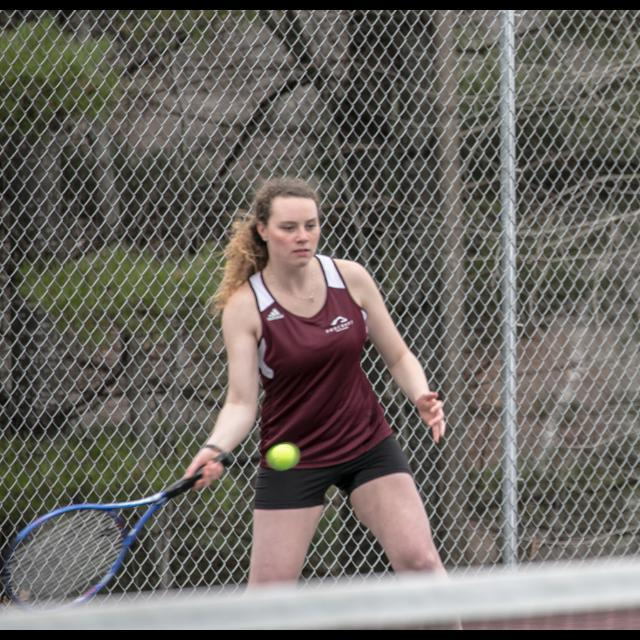tennis-ball: (264, 442, 302, 473)
